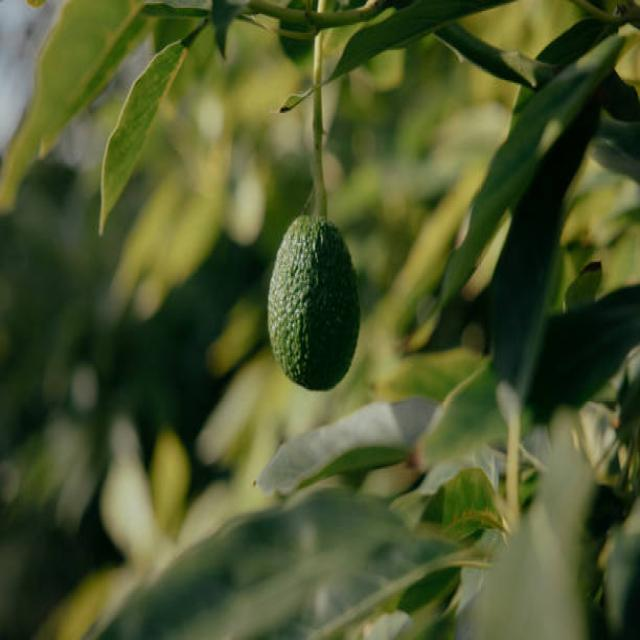Unripe: (265, 206, 363, 394)
